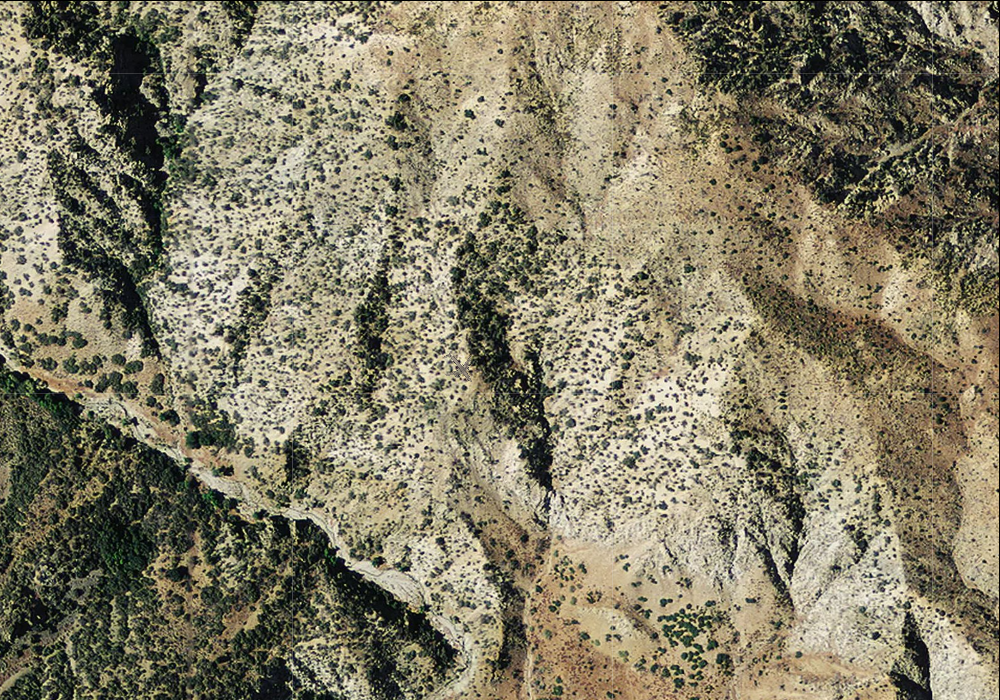plane: (433, 341, 484, 393)
